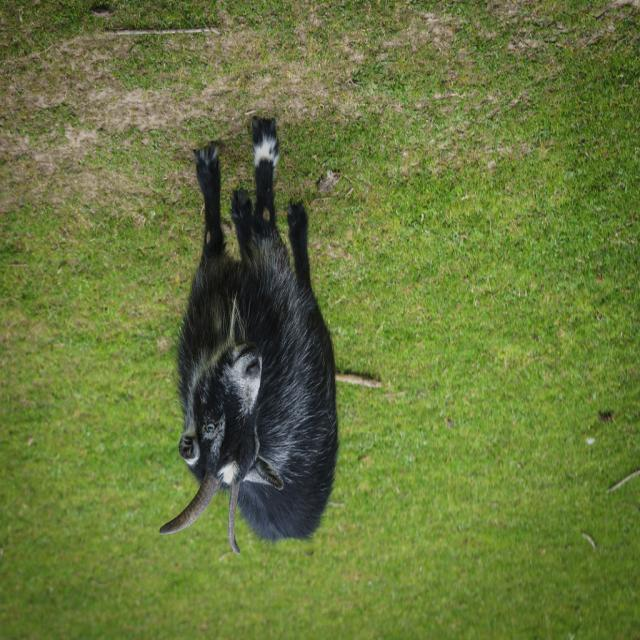Goat: (159, 116, 340, 557)
